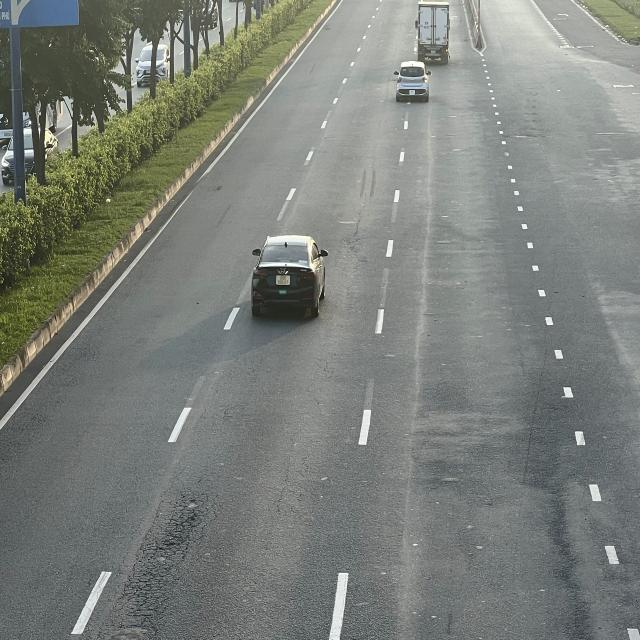car: (251, 237, 330, 320), (396, 61, 431, 100)
truck: (414, 0, 450, 60)
